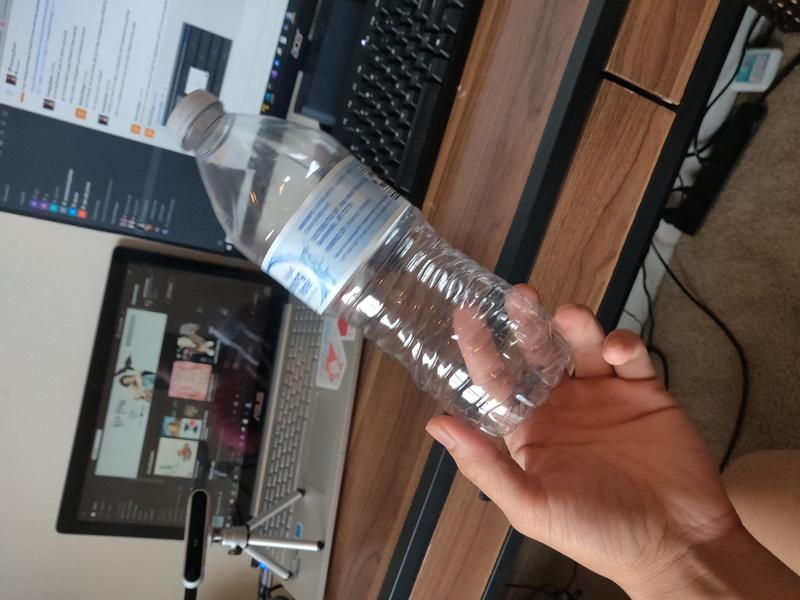bottle: (166, 89, 574, 437)
